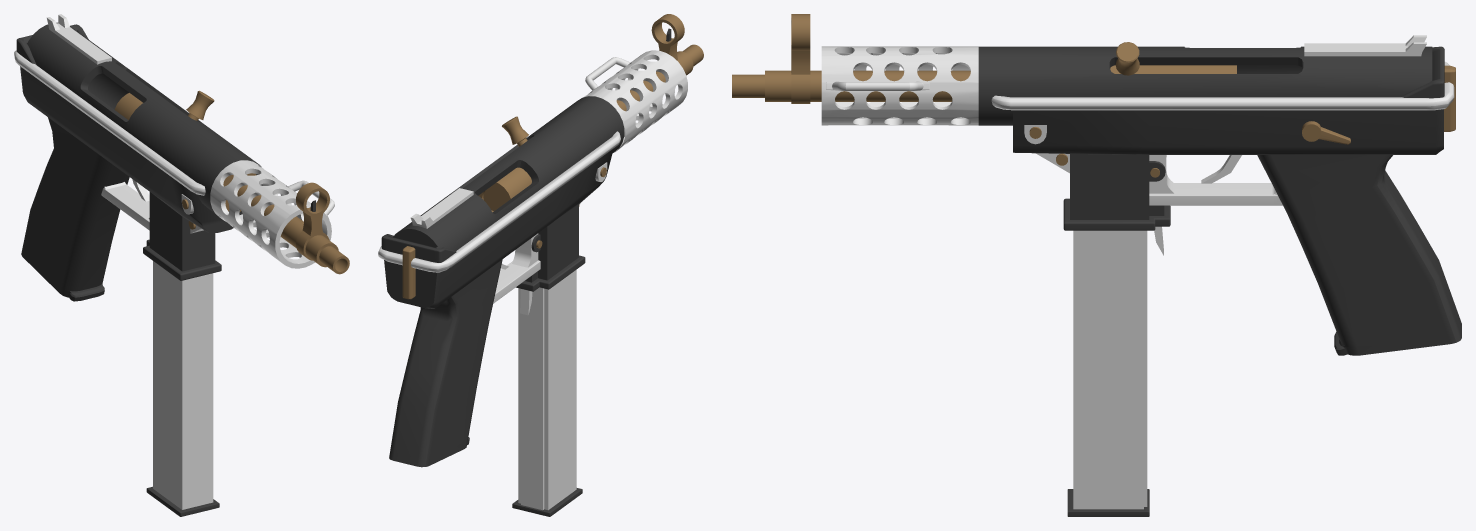
File: Pistol_13.fbx
3 views of the same model, side by side, from view 1: azimuth 30°, elevation 25°; view 2: azimuth 150°, elevation 25°; view 3: azimuth 270°, elevation 25° (orthographic). The views are drawn at different scales.
Parts seen in each view (by area): view 1: Pistol_13; view 2: Pistol_13; view 3: Pistol_13.
Part boxes in pixels (bbox=[...]): Pistol_13: bbox=[14, 14, 349, 516]; Pistol_13: bbox=[378, 14, 703, 516]; Pistol_13: bbox=[732, 14, 1461, 516].
Size of the model in its own units: 59.78 by 304 by 409.
